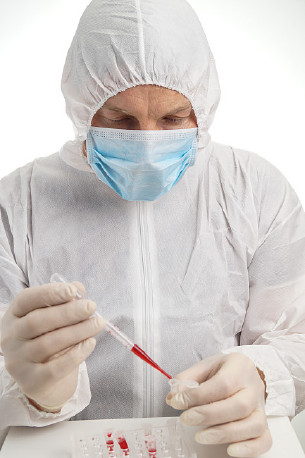face_mask: (94, 62, 199, 202)
